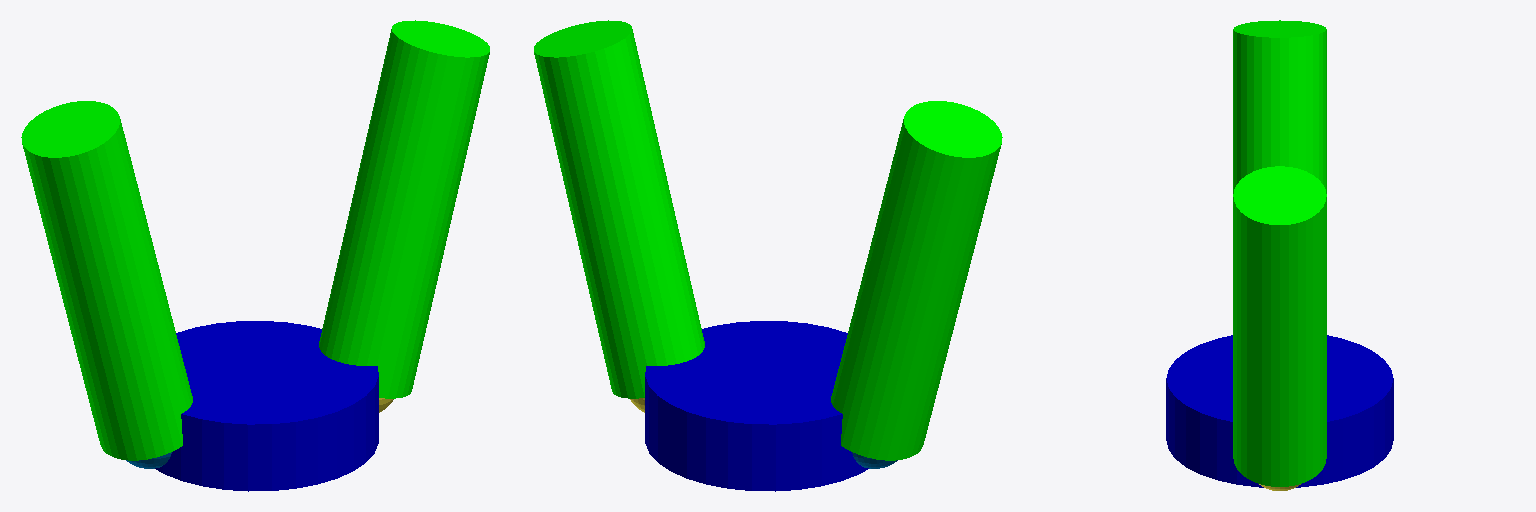
URDF robot description (gripper_2f_1j):
<?xml version='1.0' encoding='UTF-8'?>
<robot name="gripper_2f_1j">
  <link name="palm">
    <inertial>
      <origin xyz="0.0 0.0 0.0" rpy="0.0 -0.0 0.0"/>
      <mass value="1.0"/>
      <inertia ixx="1.0" ixy="0.0" ixz="0.0" iyy="1.0" iyz="0.0" izz="1.0"/>
    </inertial>
    <visual>
      <geometry>
        <cylinder radius="0.05" length="0.03"/>
      </geometry>
      <material name="blue"/>
      <origin xyz="0.0 0.0 0.0" rpy="0.0 -0.0 0.0"/>
    </visual>
    <collision>
      <geometry>
        <cylinder radius="0.05" length="0.03"/>
      </geometry>
      <origin xyz="0.0 0.0 0.0" rpy="0.0 0.0 0.0"/>
    </collision>
  </link>
  <link name="f11">
    <inertial>
      <origin xyz="0.0 0.0 0.0" rpy="0.0 -0.0 0.0"/>
      <mass value="1.0"/>
      <inertia ixx="1.0" ixy="0.0" ixz="0.0" iyy="1.0" iyz="0.0" izz="1.0"/>
    </inertial>
    <visual>
      <geometry>
        <cylinder radius="0.02058400289479507" length="0.1489589212035583"/>
      </geometry>
      <material name="green"/>
      <origin xyz="0.0 0.0 0.07447946060177915" rpy="0.0 -0.0 0.0"/>
    </visual>
    <collision>
      <geometry>
        <cylinder radius="0.02058400289479507" length="0.1489589212035583"/>
      </geometry>
      <origin xyz="0.0 0.0 0.05" rpy="0.0 0.0 0.0"/>
    </collision>
  </link>
  <link name="f21">
    <inertial>
      <origin xyz="0.0 0.0 0.0" rpy="0.0 -0.0 0.0"/>
      <mass value="1.0"/>
      <inertia ixx="1.0" ixy="0.0" ixz="0.0" iyy="1.0" iyz="0.0" izz="1.0"/>
    </inertial>
    <visual>
      <geometry>
        <cylinder radius="0.02058400289479507" length="0.1489589212035583"/>
      </geometry>
      <material name="green"/>
      <origin xyz="0.0 0.0 0.07447946060177915" rpy="0.0 -0.0 0.0"/>
    </visual>
    <collision>
      <geometry>
        <cylinder radius="0.02058400289479507" length="0.1489589212035583"/>
      </geometry>
      <origin xyz="0.0 0.0 0.05" rpy="0.0 0.0 0.0"/>
    </collision>
  </link>
  <link name="f11_base">
    <inertial>
      <origin xyz="0.0 0.0 0.0" rpy="0.0 -0.0 0.0"/>
      <mass value="1.0"/>
      <inertia ixx="1.0" ixy="0.0" ixz="0.0" iyy="1.0" iyz="0.0" izz="1.0"/>
    </inertial>
    <visual>
      <geometry>
        <sphere radius="0.015"/>
      </geometry>
      <origin xyz="0.0 0.0 0.0" rpy="0.0 -0.0 0.0"/>
    </visual>
  </link>
  <link name="f21_base">
    <inertial>
      <origin xyz="0.0 0.0 0.0" rpy="0.0 -0.0 0.0"/>
      <mass value="1.0"/>
      <inertia ixx="1.0" ixy="0.0" ixz="0.0" iyy="1.0" iyz="0.0" izz="1.0"/>
    </inertial>
    <visual>
      <geometry>
        <sphere radius="0.015"/>
      </geometry>
      <origin xyz="0.0 0.0 0.0" rpy="0.0 -0.0 0.0"/>
    </visual>
  </link>
  <joint name="f11_joint" type="revolute">
    <dynamics damping="100.0" friction="1.0"/>
    <limit effort="30.0" velocity="2.0" lower="-0.6" upper="0.25"/>
    <parent link="f11_base"/>
    <child link="f11"/>
    <axis xyz="0. 1. 0."/>
    <origin xyz="0.0 0.0 0.0" rpy="0.0 0.25 0.0"/>
  </joint>
  <joint name="f21_joint" type="revolute">
    <dynamics damping="100.0" friction="1.0"/>
    <limit effort="30.0" velocity="2.0" lower="-0.6" upper="0.25"/>
    <parent link="f21_base"/>
    <child link="f21"/>
    <axis xyz=" 0. -1.  0."/>
    <origin xyz="0.0 0.0 0.0" rpy="0.0 -0.25 0.0"/>
  </joint>
  <joint name="f11_base_joint" type="fixed">
    <parent link="palm"/>
    <child link="f11_base"/>
    <axis xyz="1. 0. 0."/>
    <origin xyz="0.05 0.0 0.0" rpy="0.0 0.0 0.0"/>
  </joint>
  <joint name="f21_base_joint" type="fixed">
    <parent link="palm"/>
    <child link="f21_base"/>
    <axis xyz="1. 0. 0."/>
    <origin xyz="-0.05 -0.0 0.0" rpy="0.0 0.0 0.0"/>
  </joint>
  <material name="blue">
    <color rgba="0.  0.  0.8 1. "/>
  </material>
  <material name="green">
    <color rgba="0. 1. 0. 1."/>
  </material>
</robot>

--- Render facts (derived) ---
Views: 3 orthographic renders of the robot side by side, from view 1: azimuth 30°, elevation 25°; view 2: azimuth 150°, elevation 25°; view 3: azimuth 270°, elevation 25°.
Model gripper_2f_1j with 5 links and 4 joints (2 revolute, 2 fixed), rooted at palm, posed every joint at zero.
Links seen in each view (by area): view 1: f11, f21, palm; view 2: f11, f21, palm; view 3: f11, palm, f21.
Link boxes in pixels (box(x1,y1,x2,y2)): f11: box(319, 20, 489, 398); f21: box(21, 101, 192, 460); palm: box(155, 321, 378, 491); f11: box(534, 20, 704, 398); f21: box(831, 101, 1002, 460); palm: box(645, 321, 868, 491); f11: box(1233, 166, 1326, 486); palm: box(1166, 335, 1393, 487); f21: box(1233, 20, 1326, 193).
Size in the robot's own frame: 0.2136 by 0.1 by 0.1644 metres.
Geometry: primitives only (box / cylinder / sphere), no mesh files.